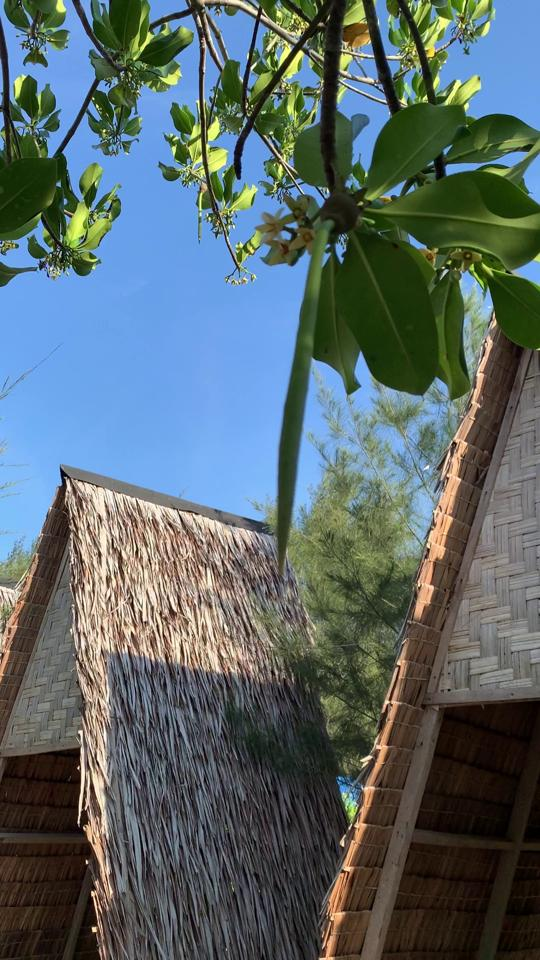mentah: (260, 163, 383, 582)
